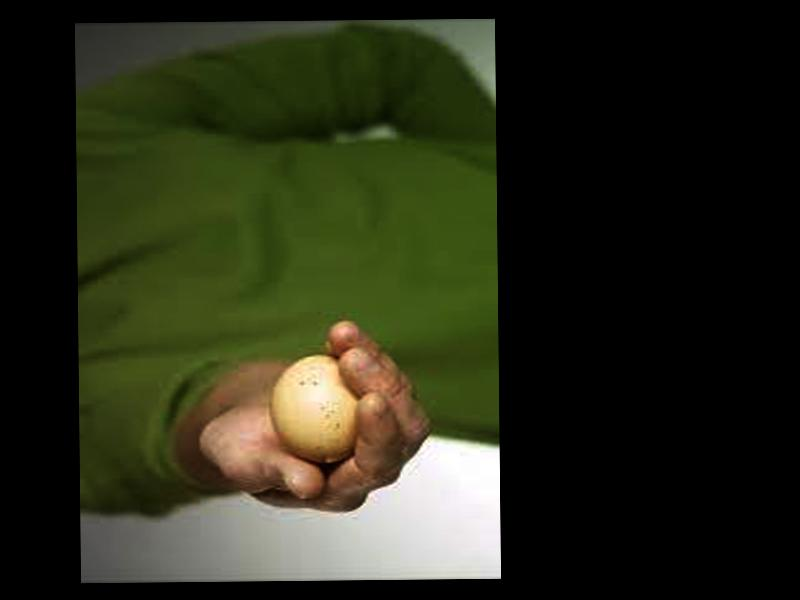Eggs: (271, 354, 360, 463)
